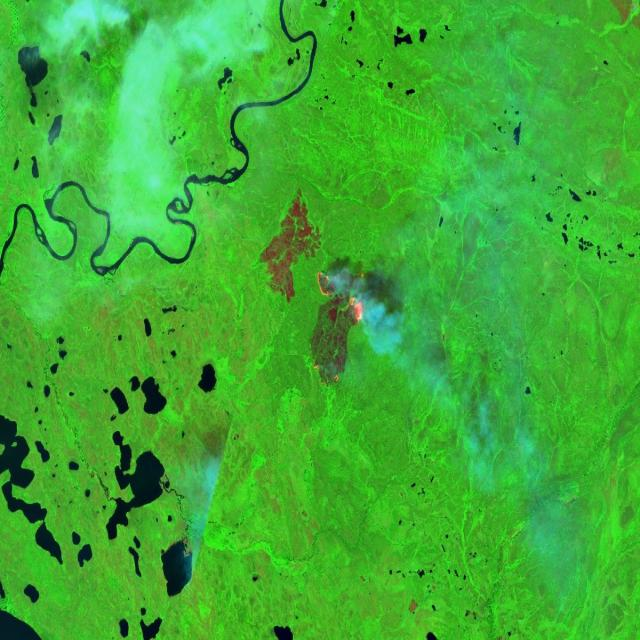fire: (306, 266, 372, 396)
